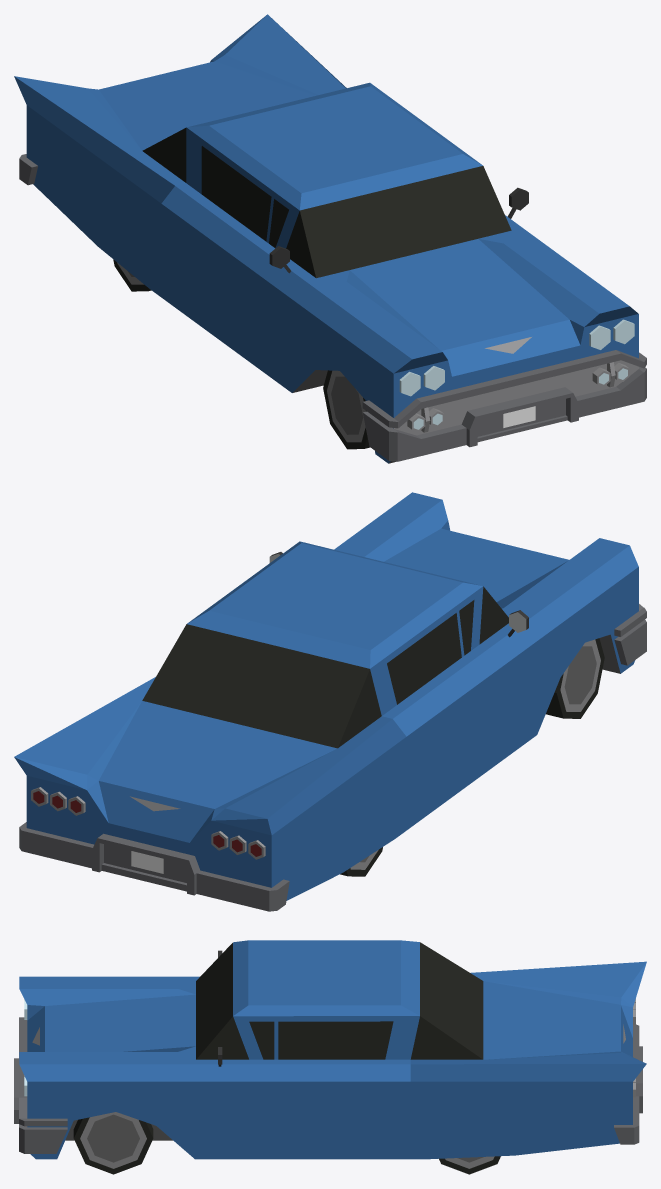
The model's file is Veh_Retro_Car_03_Blue.glb.
3 views of the same model, one above another, from view 1: azimuth 30°, elevation 25°; view 2: azimuth 150°, elevation 25°; view 3: azimuth 270°, elevation 25° (orthographic). The views are drawn at different scales.
Visible parts, largest first — view 1: Retro_Car_03_Blue, Wheel_FR; view 2: Retro_Car_03_Blue, Wheel_FR; view 3: Retro_Car_03_Blue, Wheel_FL, Wheel_RL.
Boxes of the visible parts, <box> form: Retro_Car_03_Blue: <box>14,14,646,463</box>; Wheel_FR: <box>323,370,369,449</box>; Retro_Car_03_Blue: <box>14,492,646,911</box>; Wheel_FR: <box>546,638,604,718</box>; Retro_Car_03_Blue: <box>14,940,646,1159</box>; Wheel_FL: <box>73,1112,153,1174</box>; Wheel_RL: <box>439,1156,500,1174</box>.
Bounding box in the file's own units: 1.16 × 0.8052 × 2.99.
1 material, 1 textured.
